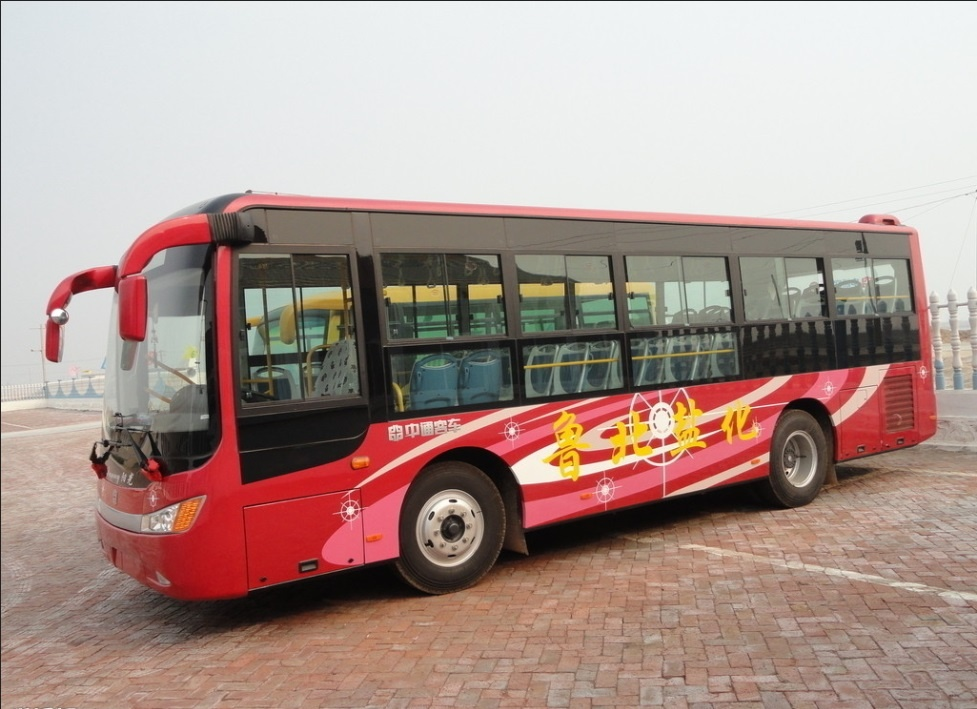bus: (38, 176, 950, 593)
